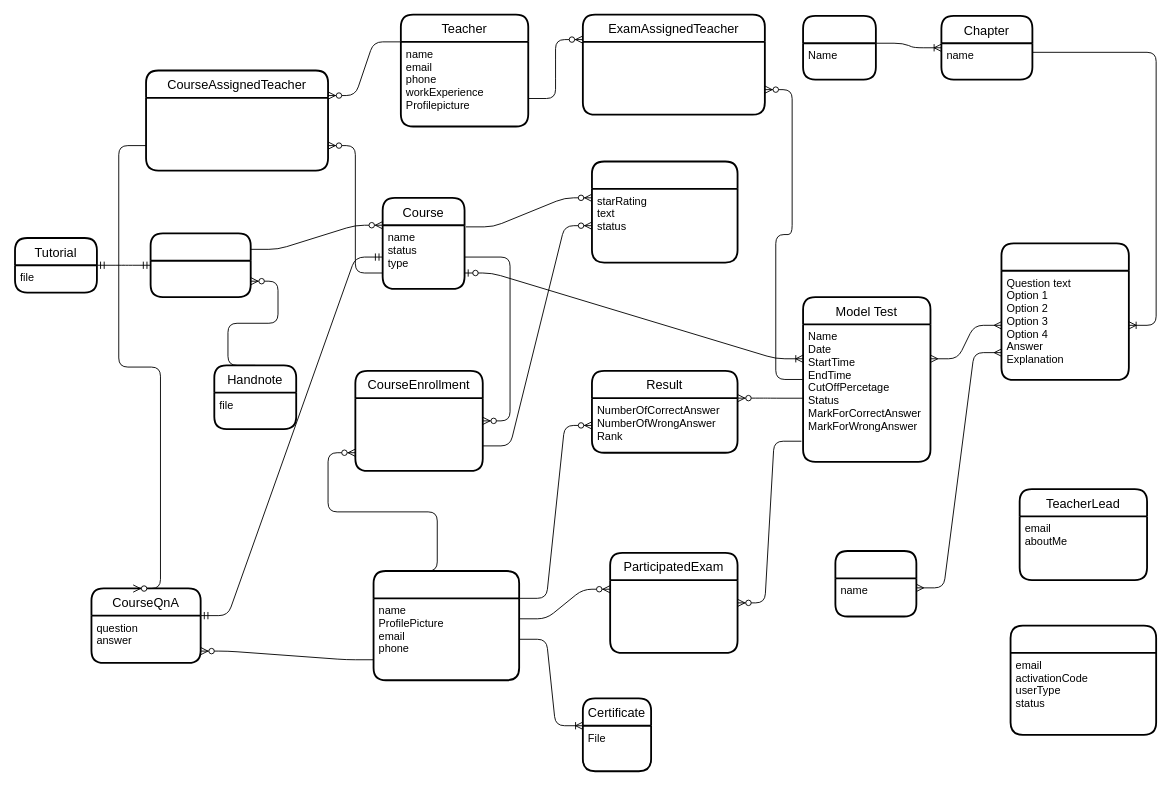
Image size: 1171x786. Some labels were removed from this diagram. The shapes that lost their labels are listed below. From the top down, each one's box as (x1, y1, x2, y2) in pixels, then its label:
(802, 15, 876, 80): Subject
(591, 160, 738, 263): CourseFeedback
(149, 232, 251, 298): Lecture
(1000, 242, 1129, 380): Model Test Question
(834, 550, 917, 617): Reference
(372, 570, 520, 681): Student
(1009, 624, 1157, 735): TeacherActivationLog
